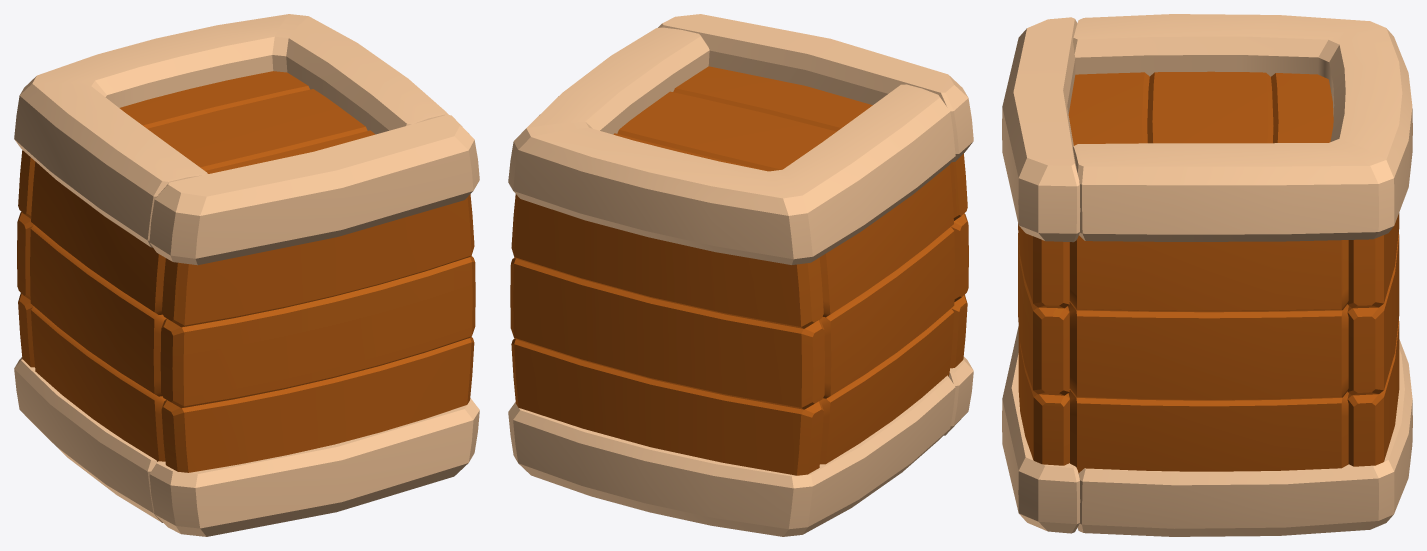
3 renders of one model, left to right at view 1: azimuth 30°, elevation 25°; view 2: azimuth 150°, elevation 25°; view 3: azimuth 270°, elevation 25°, orthographic. The views are drawn at different scales.
Parts seen in each view (by area): view 1: Box_Cap, Box; view 2: Box, Box_Cap; view 3: Box, Box_Cap.
Boxes of the visible parts, left/top/right/bottom form: Box_Cap: left=149, top=115, right=479, bottom=536; Box: left=14, top=14, right=448, bottom=522; Box: left=508, top=27, right=955, bottom=536; Box_Cap: left=658, top=14, right=973, bottom=435; Box: left=1068, top=14, right=1412, bottom=536; Box_Cap: left=1002, top=17, right=1080, bottom=533.
Bounding box in the file's own units: 27.2 × 27.96 × 27.93.
Materials: 2 (2 with a texture image).
